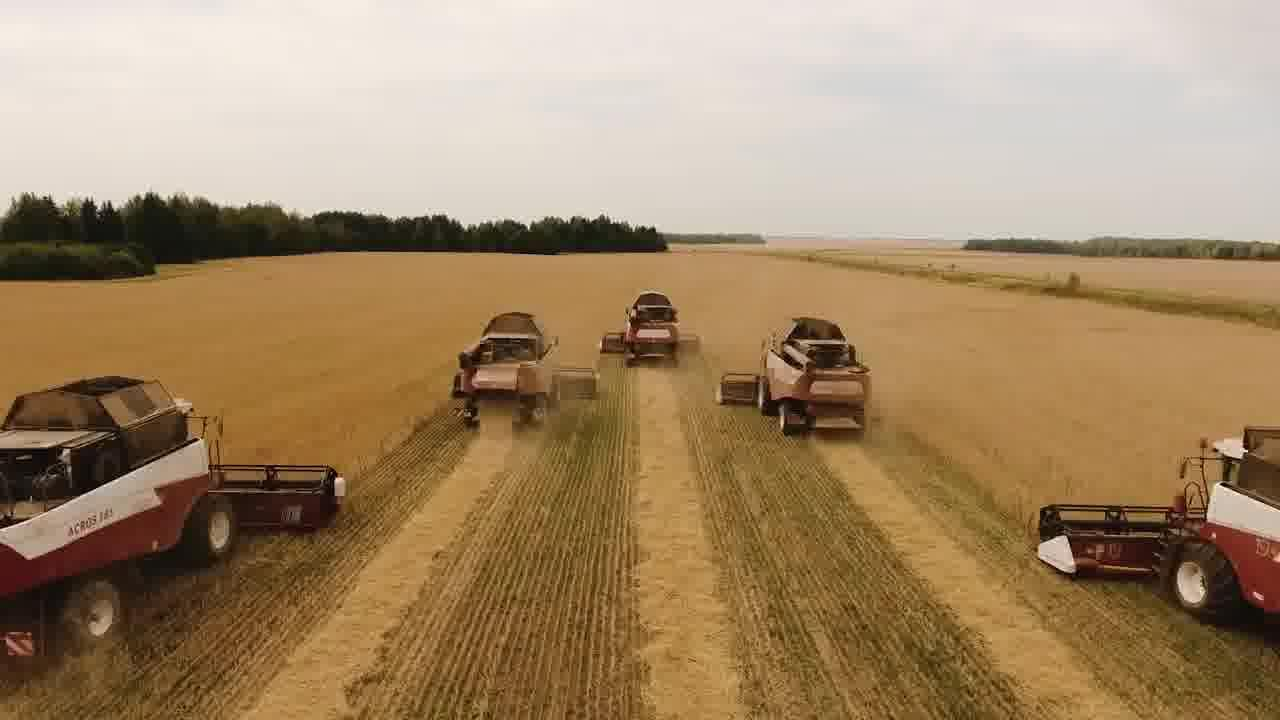combine harvester: (0, 355, 352, 667), (1027, 404, 1280, 647), (716, 308, 904, 442), (443, 305, 601, 442), (601, 290, 702, 373)
